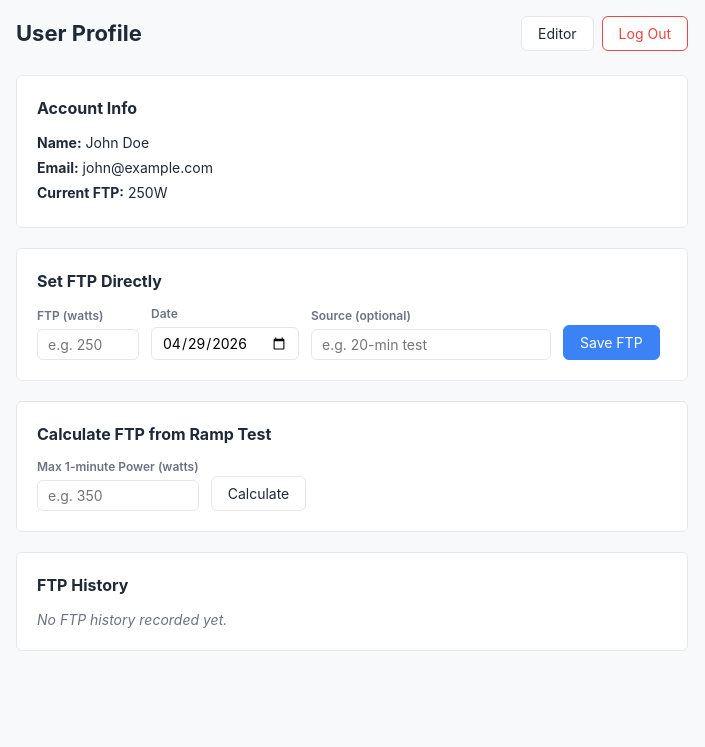
Scenario: Profile › calculates FTP from ramp test
In the number field labelled "Max 1-minute Power (watts)": (118, 496) [37, 480, 199, 511], type "300"
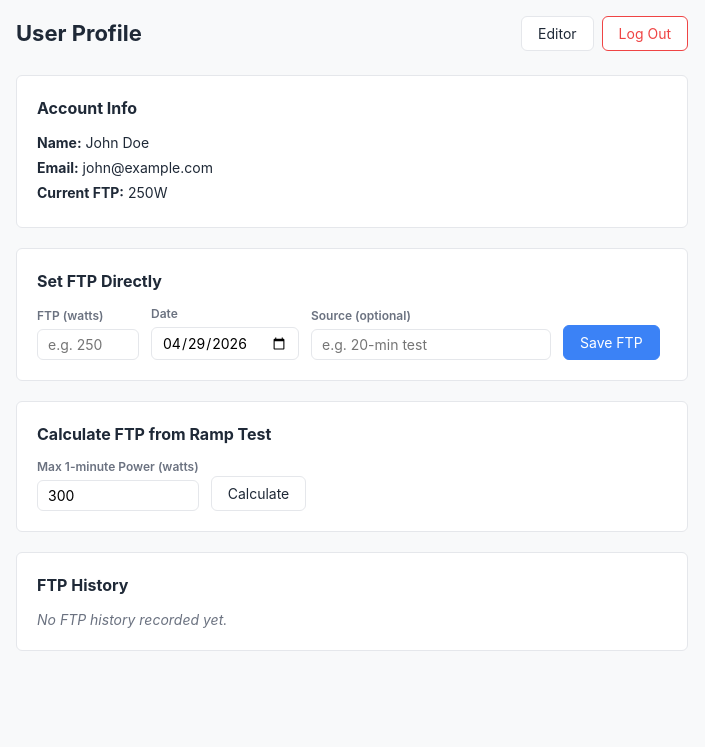
Click the button "Calculate": (258, 494) [211, 476, 306, 511]
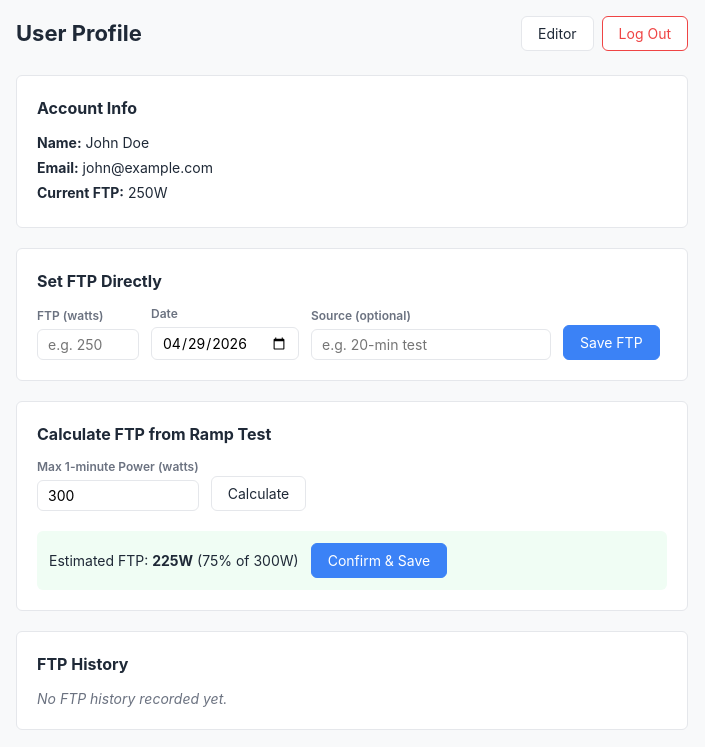
Now the text "225W" is shown, box [152, 552, 193, 569]
Now the text "Estimated FTP: 225W (75% of 300W)" is shown, box [49, 550, 299, 571]
Now the button "Confirm & Save" is shown, box [311, 543, 447, 578]
